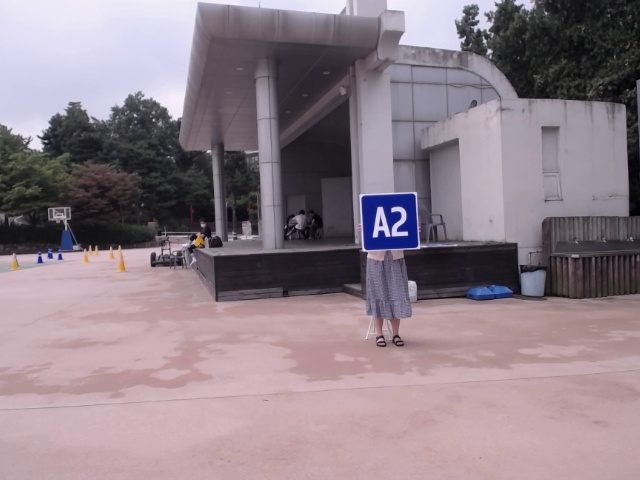delivery_a2: (361, 193, 420, 251)
